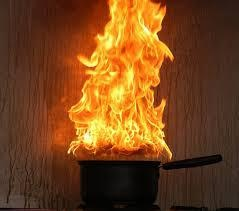fire: (64, 5, 173, 160)
